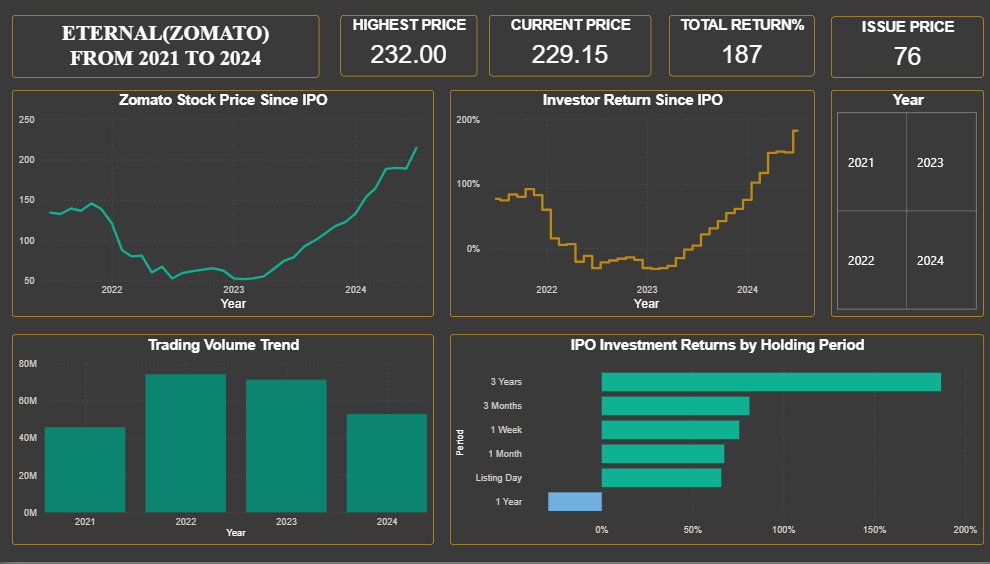

Layout of this report page (visuals, bound fields, positions):
{"tool":"powerbi","page":{"name":"ZOMATO","canvas":[1280,720],"ordinal":0},"visuals":[{"type":"card","title":"HIGHEST PRICE","fields":{"Values":["Query11.Highest Price"]},"box":[436.5,19.2,175,78.8],"z":0},{"type":"card","title":"CURRENT PRICE","fields":{"Values":["Query11.Current Price"]},"box":[626.9,19.2,207.7,78.8],"z":1000},{"type":"card","title":"TOTAL RETURN%","fields":{"Values":["Query11.Total Return %"]},"box":[857.7,19.2,186.5,78.8],"z":2000},{"type":"card","title":"ISSUE PRICE","fields":{"Values":["Query11.IPO Price"]},"box":[1065.4,21.2,196.2,78.8],"z":3000},{"type":"lineChart","title":"Zomato Stock Price Since IPO","fields":{"Y":["Avg(Query11.Close)"],"Category":["Query11.Date.Variation.Date Hierarchy.Year","Query11.Date.Variation.Date Hierarchy.Month"]},"box":[15.4,115.4,540.4,290.4],"z":4000},{"type":"lineChart","title":"Investor Return Since IPO","fields":{"Y":["Avg(Query11.RETURN_FROM_IPO)"],"Category":["Query11.Date.Variation.Date Hierarchy.Year","Query11.Date.Variation.Date Hierarchy.Month"]},"box":[576.9,115.4,467.3,290.4],"z":5000},{"type":"columnChart","title":"Trading Volume Trend","fields":{"Y":["Avg(Query11.Volume)"],"Category":["Query11.Date.Variation.Date Hierarchy.Year"]},"box":[15.4,428.8,540.4,269.2],"z":6000},{"type":"barChart","title":"IPO Investment Returns by Holding Period","fields":{"Category":["Table3.Period"],"Y":["Sum(Table3.Return)"]},"box":[576.9,428.8,684.6,269.2],"z":7000},{"type":"advancedSlicerVisual","fields":{"Values":["Query11.Date.Variation.Date Hierarchy.Year"]},"box":[1065.4,115.4,196.2,290.4],"z":7001},{"type":"textbox","box":[15.4,19.2,394.2,80.8],"z":7002}]}

Visuals, with their boxes in screenshot pixels (x1, y1, x2, y2), scaled from the page's 1280x720 canvas onto the 990x564 screenshot:
"HIGHEST PRICE" card: <box>338,15,473,77</box>
"CURRENT PRICE" card: <box>485,15,646,77</box>
"TOTAL RETURN%" card: <box>663,15,808,77</box>
"ISSUE PRICE" card: <box>824,17,976,78</box>
"Zomato Stock Price Since IPO" lineChart: <box>12,90,430,318</box>
"Investor Return Since IPO" lineChart: <box>446,90,808,318</box>
"Trading Volume Trend" columnChart: <box>12,336,430,547</box>
"IPO Investment Returns by Holding Period" barChart: <box>446,336,976,547</box>
advancedSlicerVisual - Query11.Date.Variation.Date Hierarchy.Year: <box>824,90,976,318</box>
textbox: <box>12,15,317,78</box>
